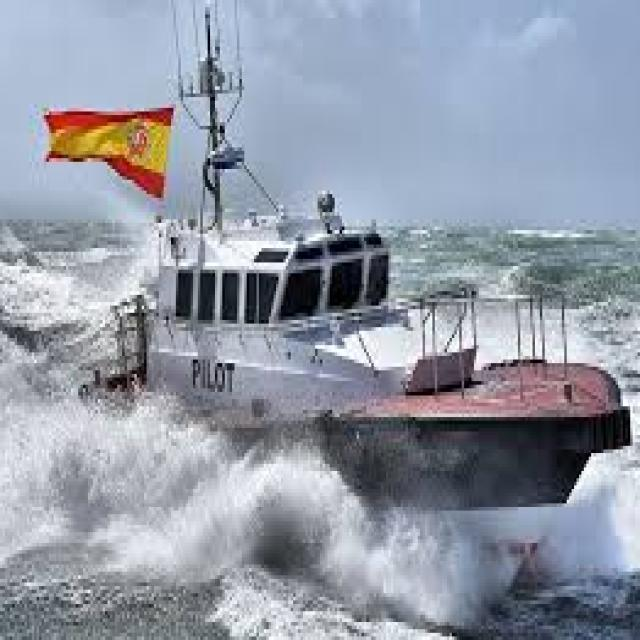houseboat: (80, 0, 635, 593)
